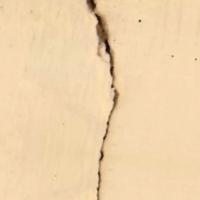crack: (64, 0, 146, 199)
